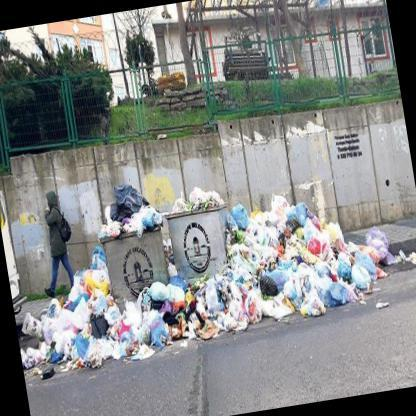Garbage: (228, 168, 415, 329), (13, 272, 257, 387), (64, 235, 124, 380), (94, 182, 162, 240), (30, 330, 80, 392), (232, 204, 270, 272), (163, 319, 209, 361), (167, 184, 224, 216), (79, 341, 114, 385), (362, 220, 396, 265), (266, 217, 300, 259), (347, 257, 376, 306), (121, 316, 150, 352), (56, 304, 82, 336), (81, 270, 102, 294), (170, 193, 190, 213), (127, 210, 144, 233), (102, 212, 118, 236), (406, 245, 415, 271)
